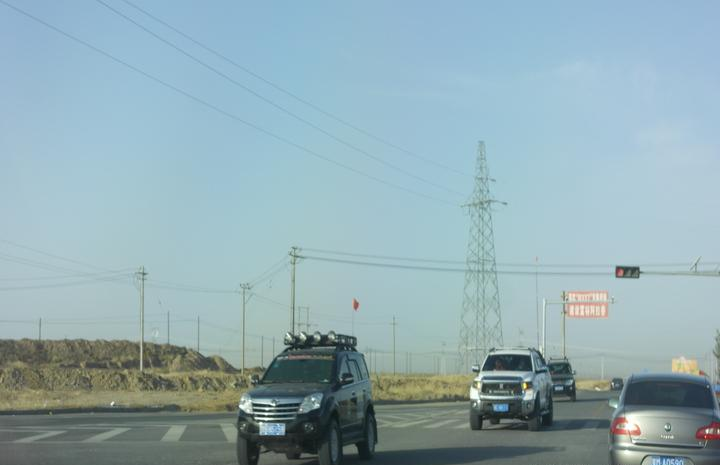car: (236, 329, 379, 465), (601, 372, 719, 465), (466, 346, 555, 430), (541, 355, 578, 400), (609, 377, 624, 390)
